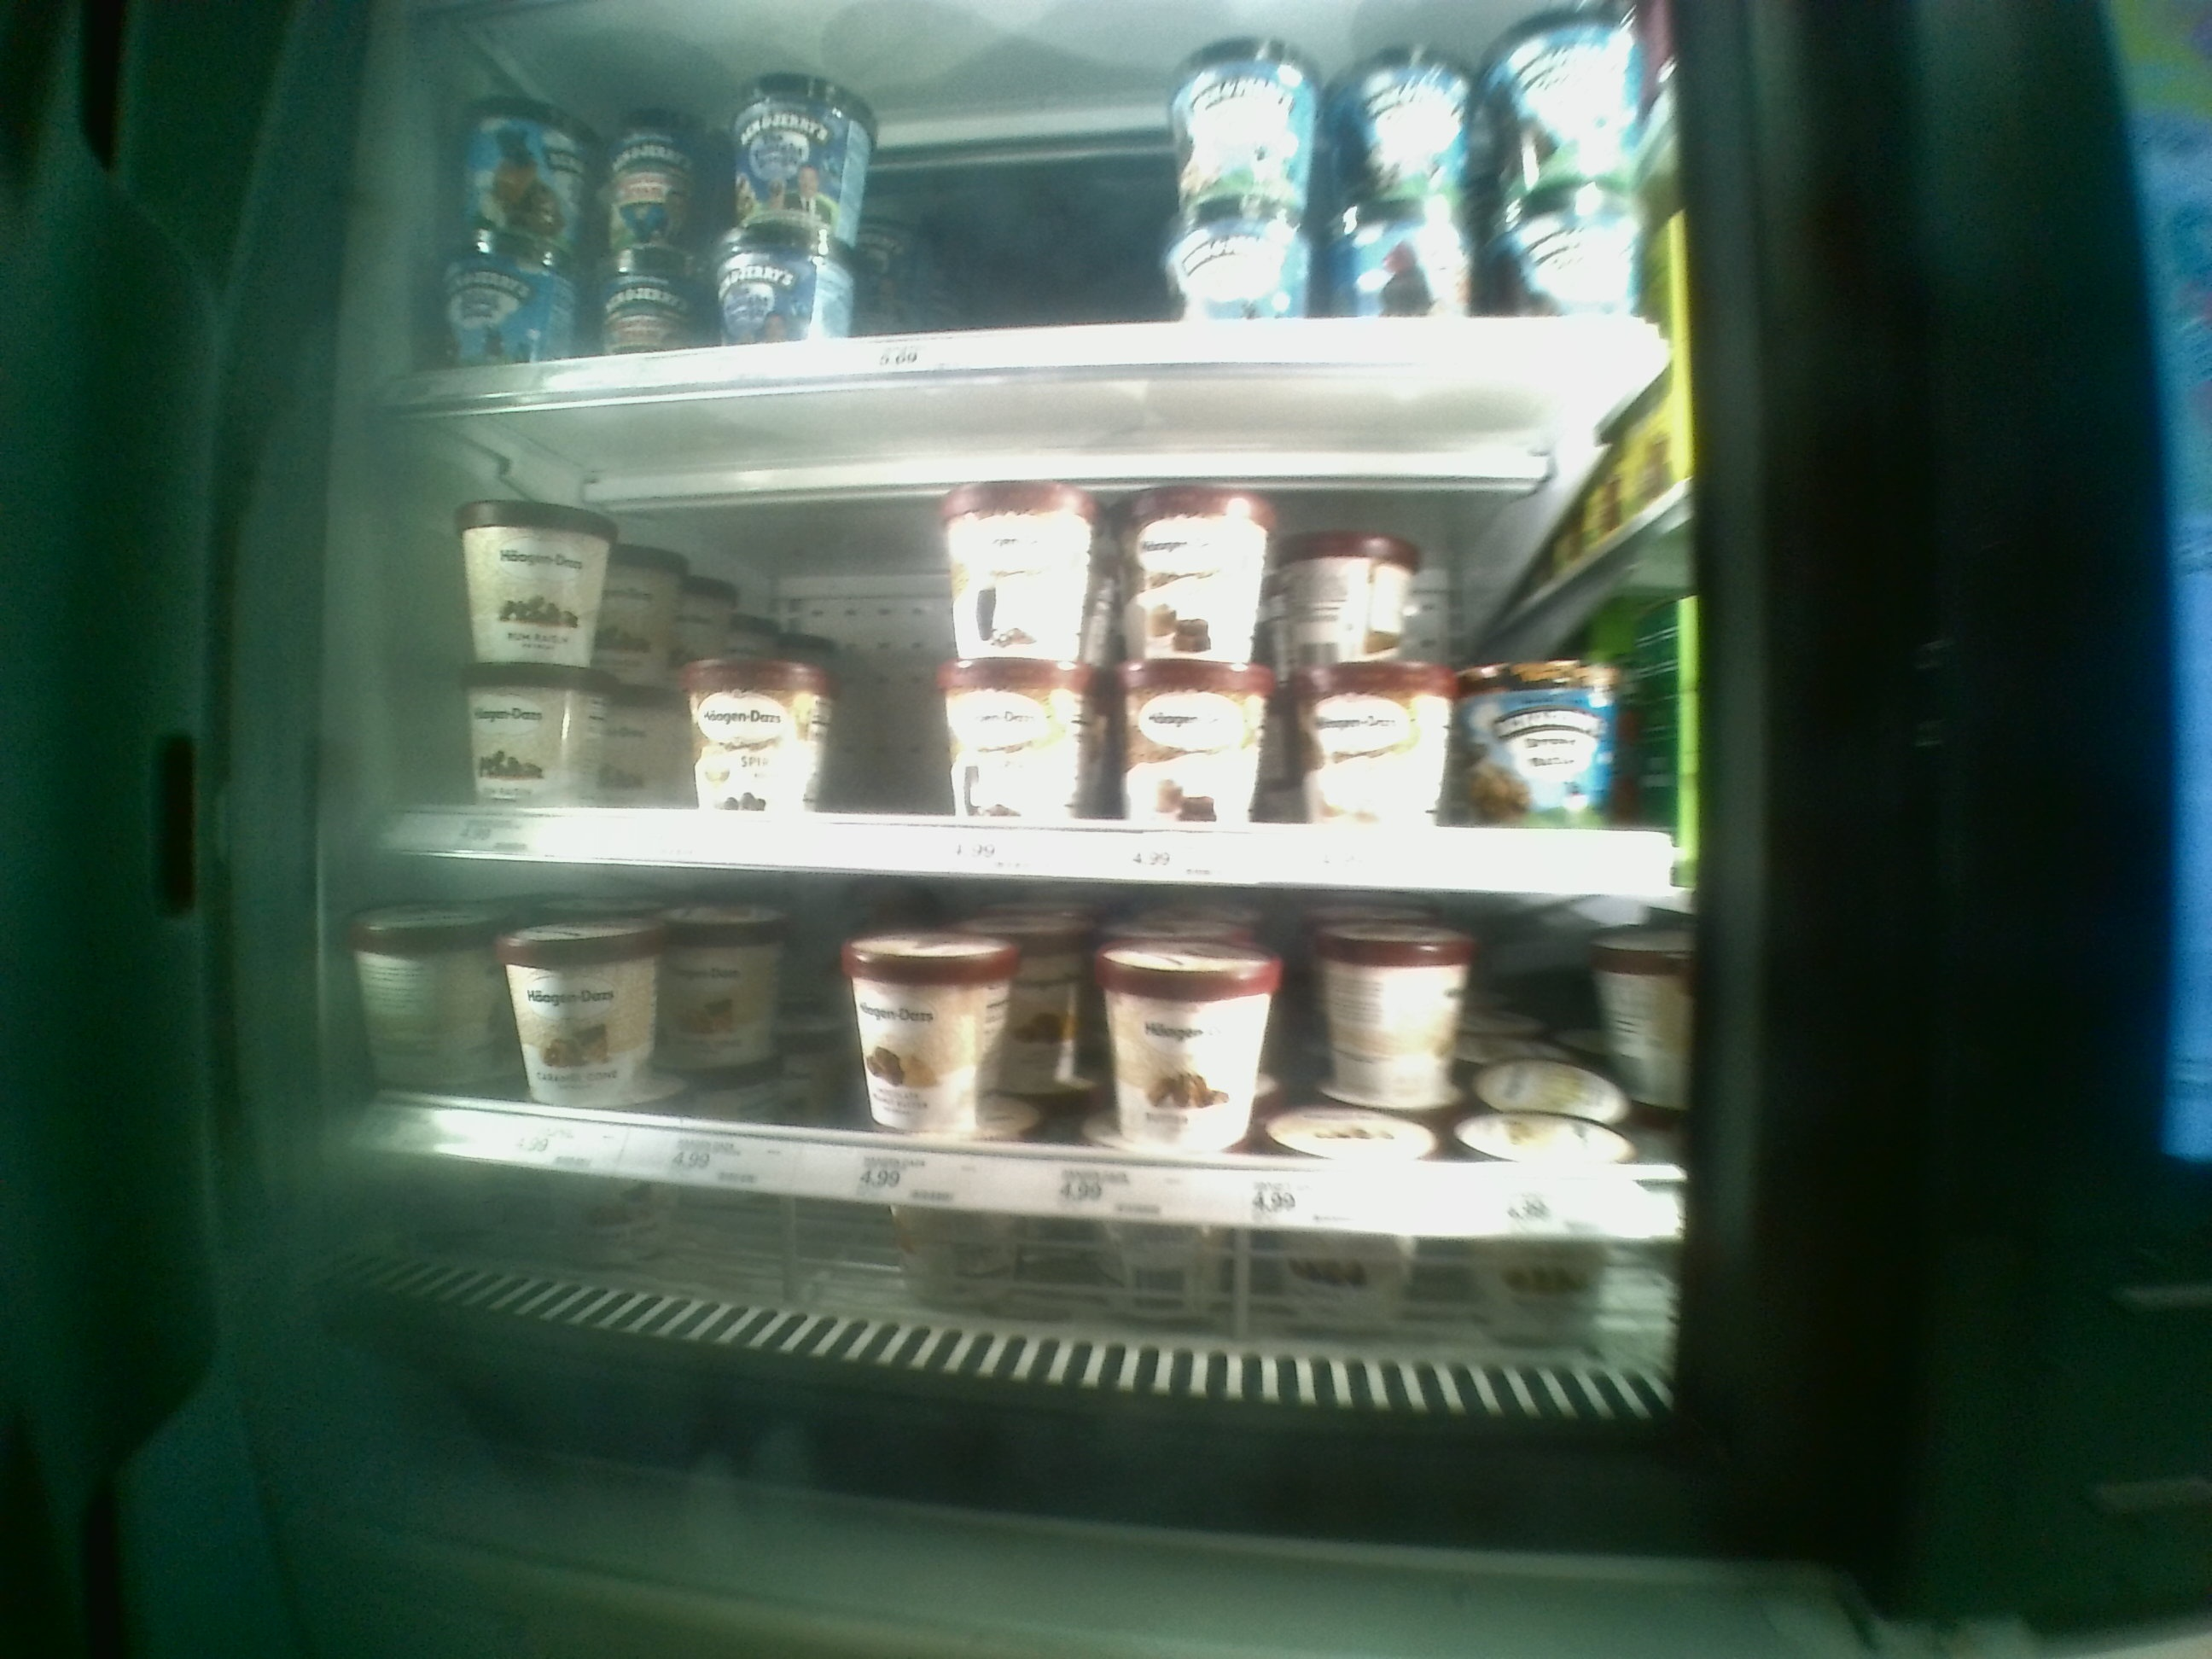shelf: (395, 857, 1707, 1401), (399, 357, 1703, 892)
